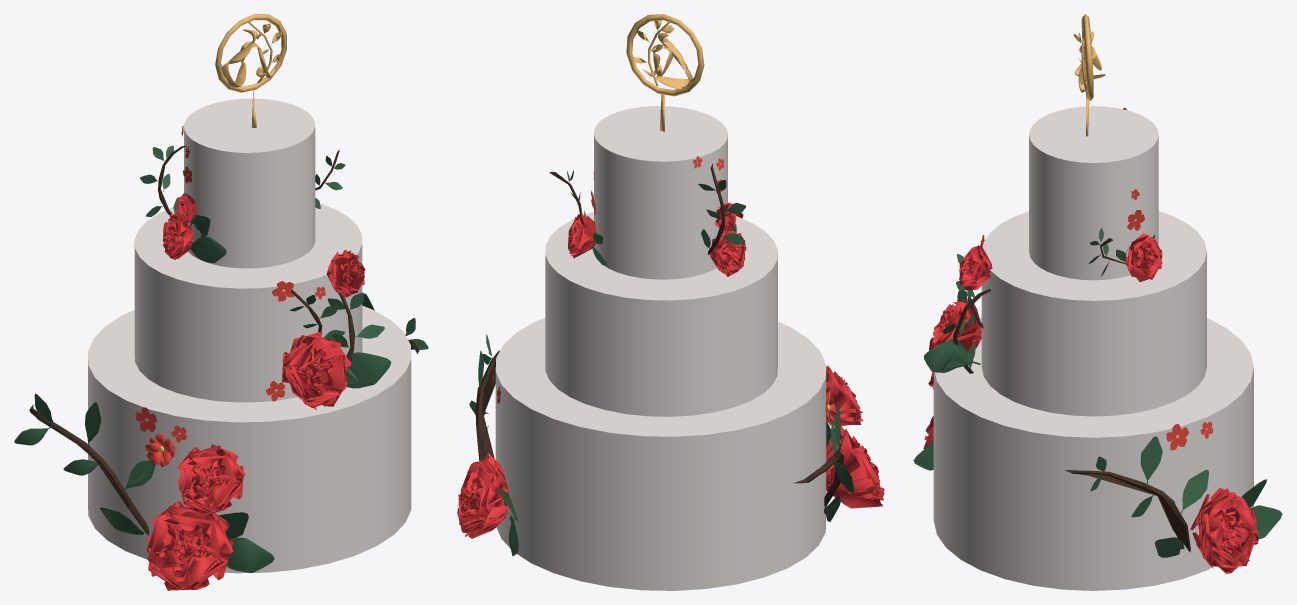
File: 3-tier.glb
3 views of the same model, side by side, from view 1: azimuth 30°, elevation 25°; view 2: azimuth 150°, elevation 25°; view 3: azimuth 270°, elevation 25° (orthographic). The views are drawn at different scales.
Parts seen in each view (by area): view 1: Cylinder.015, Cylinder.014, Cylinder.013, grid.023, Plane.057, grid.025, grid.014, Cylinder.011, grid.024, Plane.049, Plane.055, Plane.059 (+5 smaller); view 2: Cylinder.015, Cylinder.014, Cylinder.013, Cylinder.011, grid.029, grid.023, Plane.048, Plane.057, grid.014, Plane.056, grid.026, grid.028; view 3: Cylinder.015, Cylinder.014, Cylinder.013, grid.029, Plane.048, grid.025, Cylinder.011, grid.028, Plane.049, grid.024, Plane.059, Plane.047.
Boxes of the visible parts, left/top/right/bottom form: Cylinder.015: left=88, top=305, right=411, bottom=573; Cylinder.014: left=134, top=203, right=362, bottom=402; Cylinder.013: left=184, top=98, right=315, bottom=268; grid.023: left=146, top=501, right=233, bottom=590; Plane.057: left=14, top=393, right=155, bottom=535; grid.025: left=282, top=332, right=351, bottom=409; grid.014: left=177, top=444, right=245, bottom=516; Cylinder.011: left=215, top=14, right=286, bottom=128; grid.024: left=327, top=250, right=365, bottom=297; Plane.049: left=345, top=352, right=391, bottom=388; Plane.055: left=226, top=537, right=274, bottom=572; Plane.059: left=327, top=292, right=384, bottom=379; Cylinder.015: left=495, top=318, right=826, bottom=590; Cylinder.014: left=545, top=212, right=777, bottom=416; Cylinder.013: left=594, top=106, right=727, bottom=279; Cylinder.011: left=626, top=14, right=704, bottom=131; grid.029: left=457, top=453, right=509, bottom=538; grid.023: left=826, top=426, right=884, bottom=508; Plane.048: left=469, top=334, right=499, bottom=461; Plane.057: left=793, top=402, right=853, bottom=521; grid.014: left=826, top=365, right=863, bottom=426; Plane.056: left=698, top=163, right=746, bottom=254; grid.026: left=710, top=230, right=746, bottom=276; grid.028: left=568, top=212, right=596, bottom=258; Cylinder.015: left=933, top=317, right=1253, bottom=590; Cylinder.014: left=981, top=211, right=1206, bottom=416; Cylinder.013: left=1029, top=106, right=1158, bottom=280; grid.029: left=1190, top=487, right=1258, bottom=573; Plane.048: left=1065, top=436, right=1208, bottom=557; grid.025: left=929, top=298, right=981, bottom=351; Cylinder.011: left=1073, top=14, right=1105, bottom=136; grid.028: left=1123, top=233, right=1162, bottom=281; Plane.049: left=924, top=339, right=980, bottom=372; grid.024: left=959, top=245, right=992, bottom=290; Plane.059: left=940, top=289, right=990, bottom=373; Plane.047: left=1250, top=505, right=1282, bottom=539.
Size of the model in its own units: 6.24 by 7.57 by 5.05.
